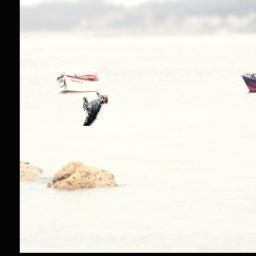Woodpecker: (84, 92, 109, 126)
